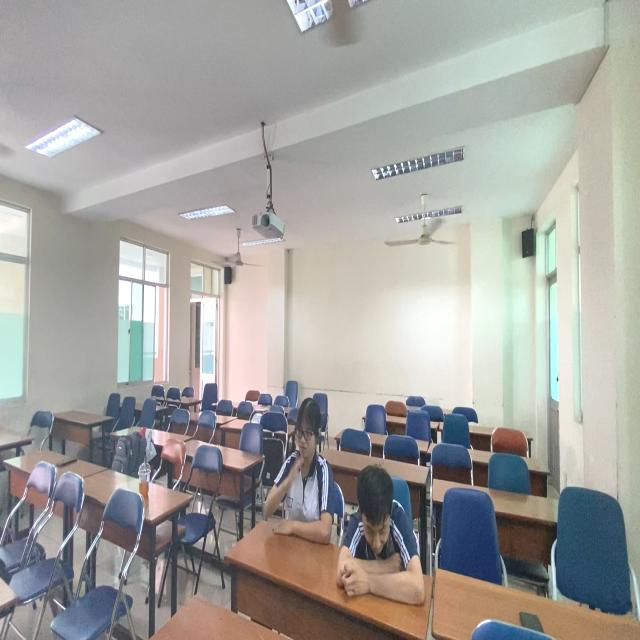raise_hand: (257, 393, 335, 558)
